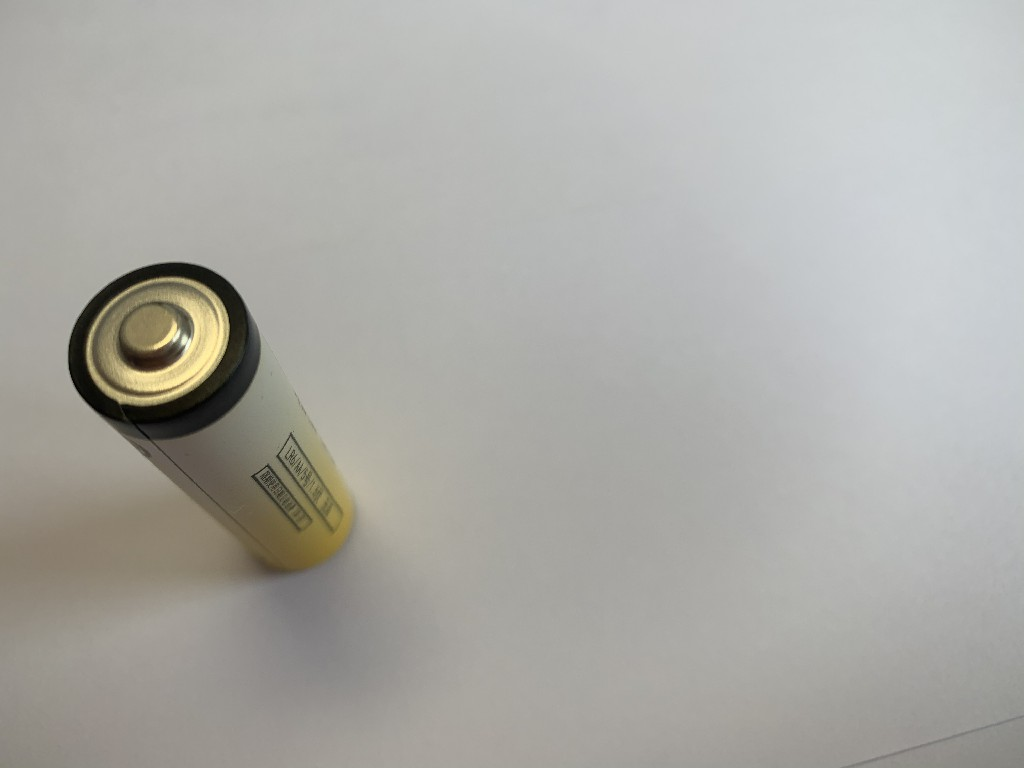charge: (62, 258, 366, 578)
